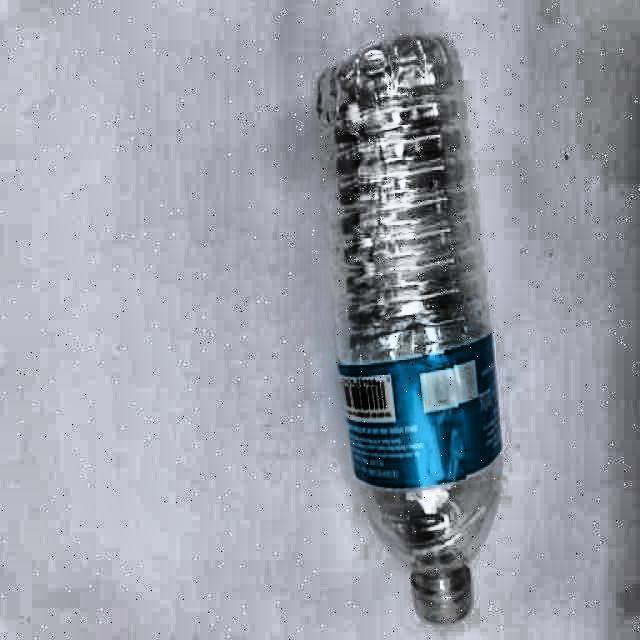plastic: (315, 35, 504, 628)
